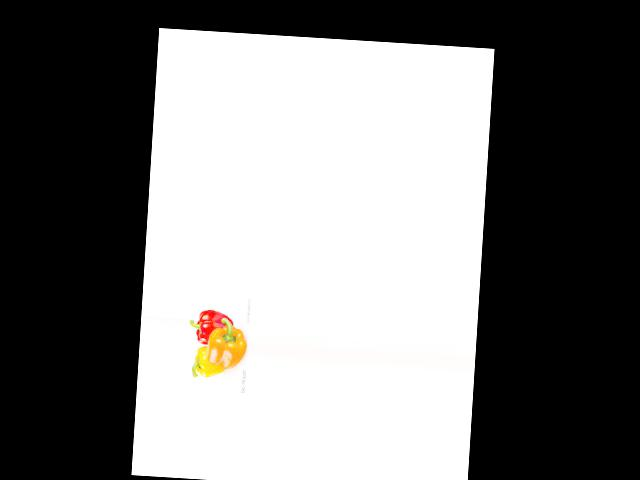bell_pepper: (189, 343, 228, 381)
